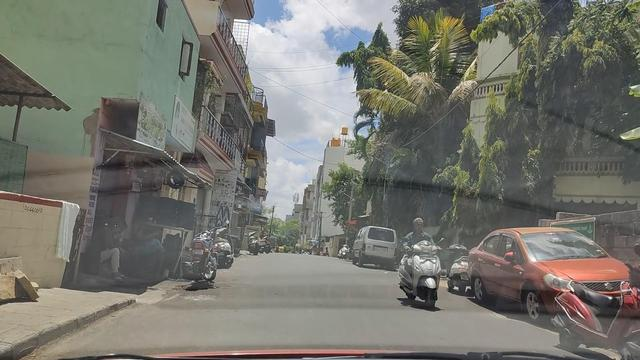LMV: (405, 216, 442, 305)
